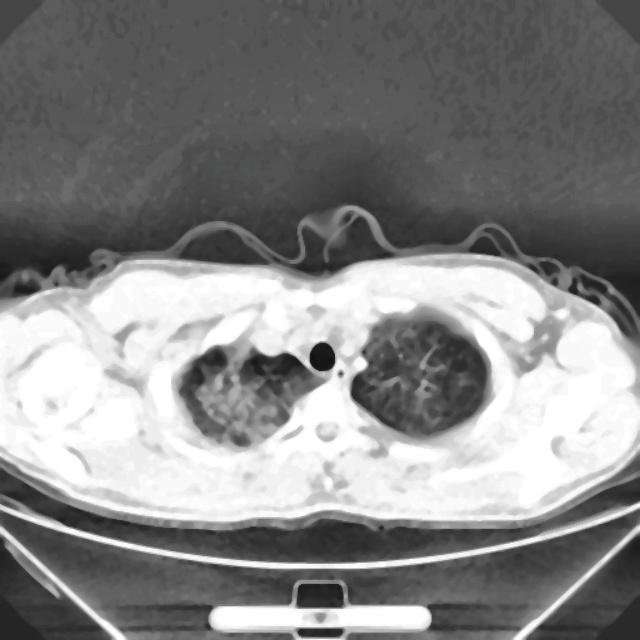covid: (0, 208, 639, 533)
